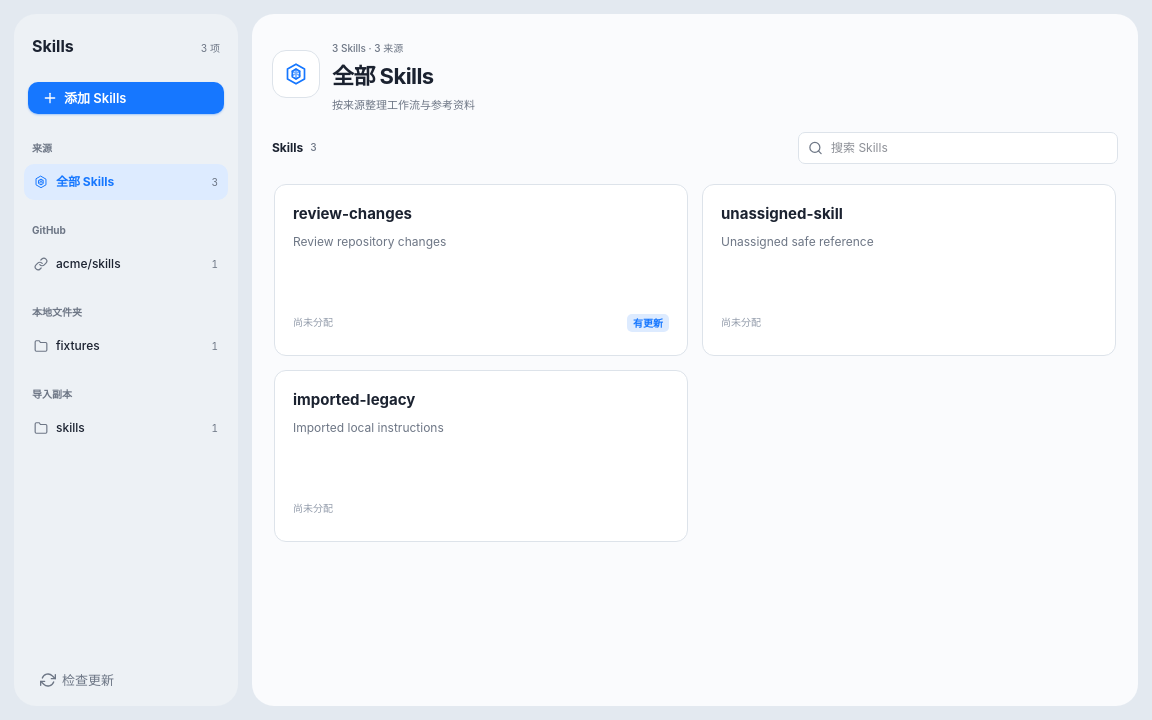
Test: SkillsView › combines source and query filters while keeping all status rows
This screenshot has width=1152, height=720.
Click the button "fixtures 1".
click(78, 346)  # box top-left (34, 338), bottom-right (218, 353)
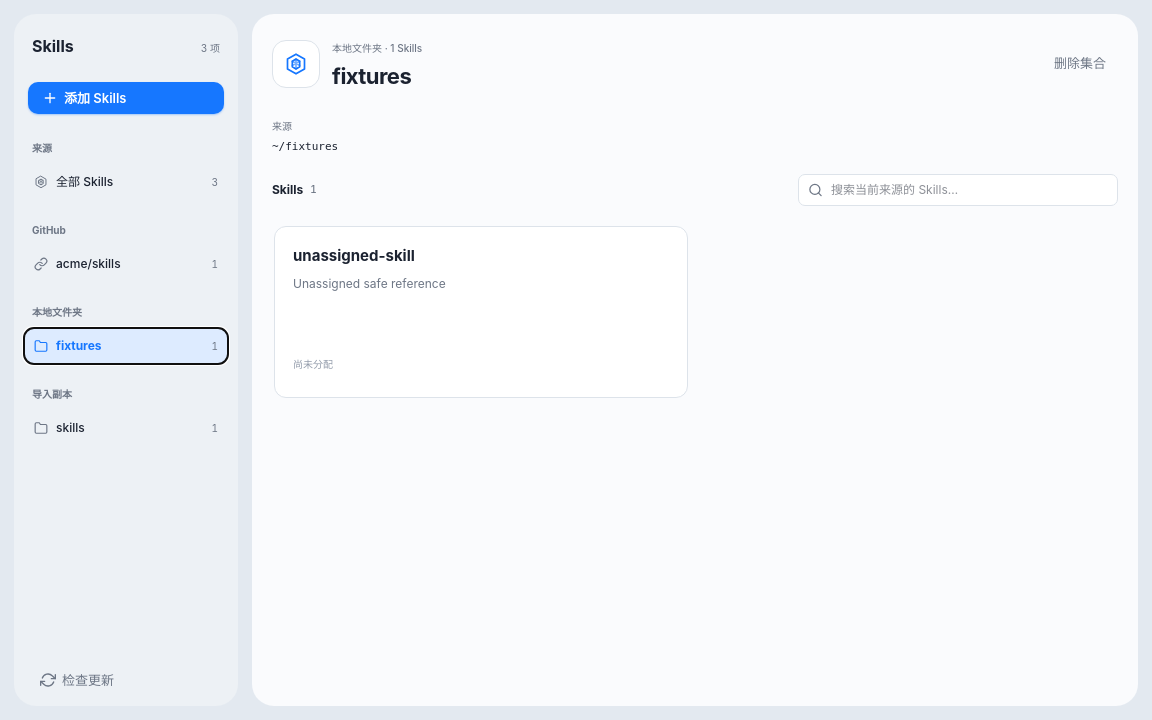
Expected: the heading "unassigned-skill" is shown, top-left (293, 246), bottom-right (415, 264)
Expected: the button "imported-legacy" is gone
Expected: the button "review-changes" is gone
Type "review" into the search field with placeholder "搜索当前来源的 Skills…".
click(958, 190); type("review")  # box top-left (798, 174), bottom-right (1118, 206)
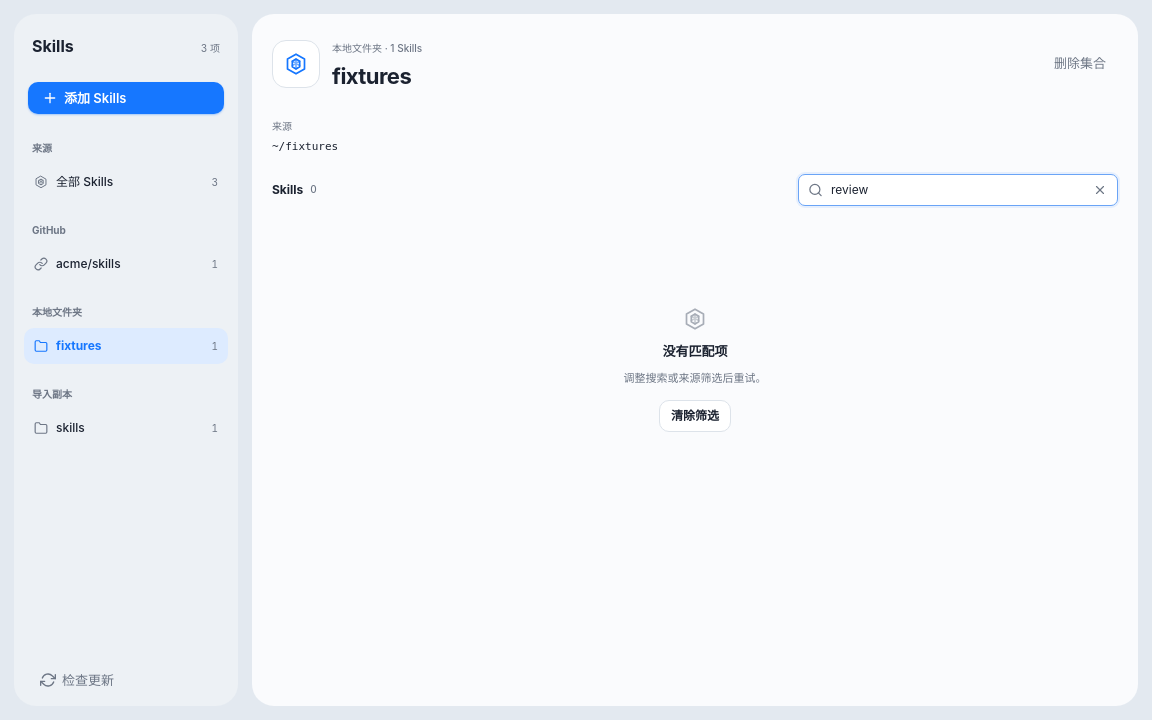
Expected: the button "acme/skills 1" is shown, top-left (34, 256), bottom-right (218, 271)
Expected: the text "没有匹配项" is shown, top-left (662, 342), bottom-right (728, 362)
